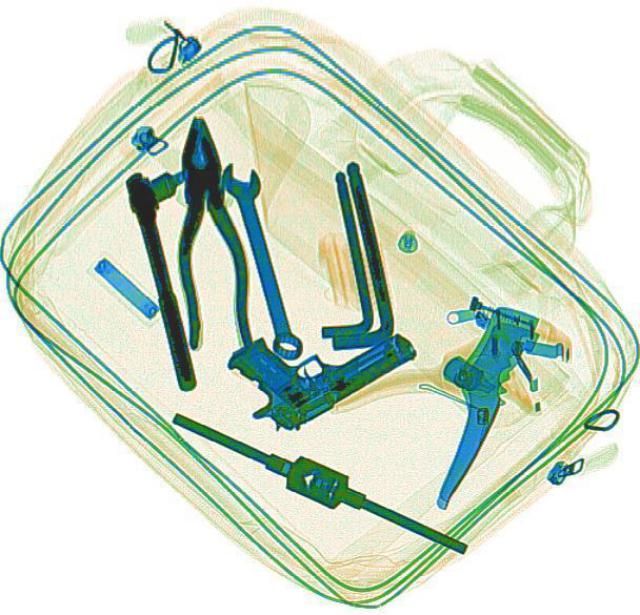Gun: (208, 274, 422, 443)
Pliers: (163, 112, 255, 351)
Wrench: (213, 157, 309, 362)
